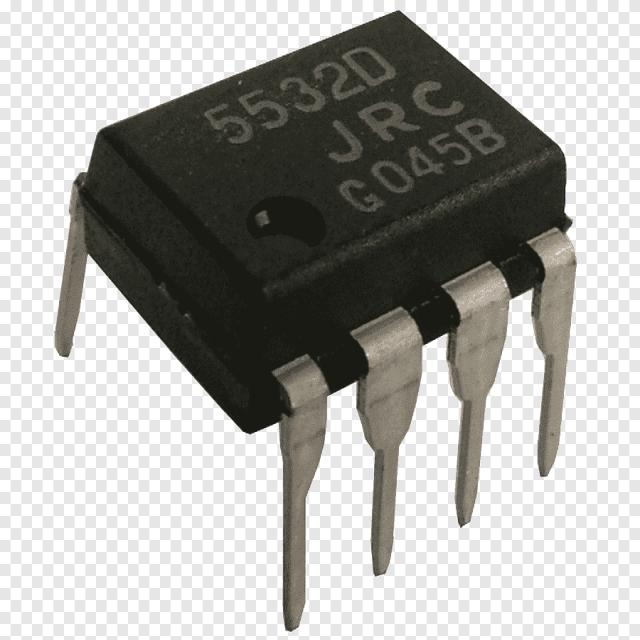IC: (54, 10, 559, 631)
